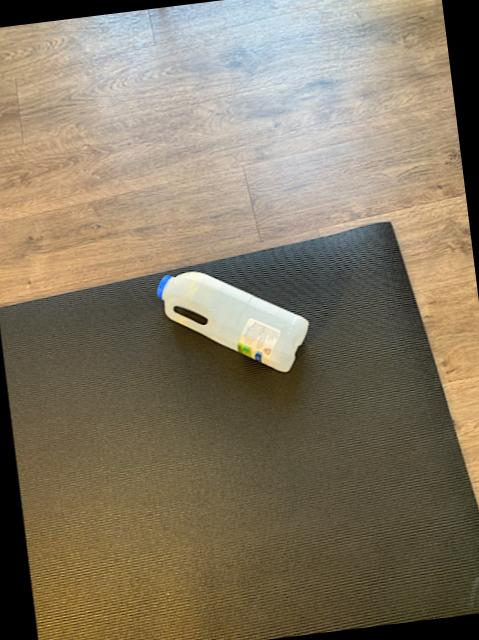plastic: (158, 270, 308, 370)
